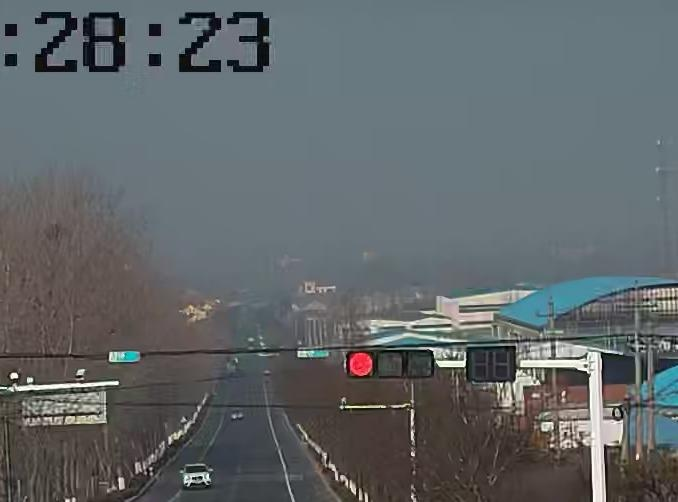red: (347, 354, 375, 377)
redtime: (470, 349, 515, 381)
